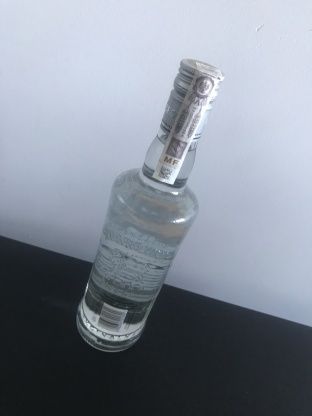nakretka: (158, 54, 226, 144)
